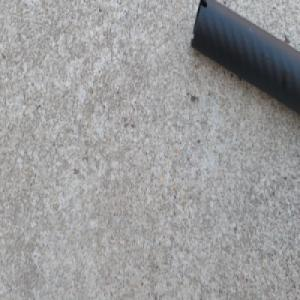LuggagePart: (189, 0, 300, 119)
